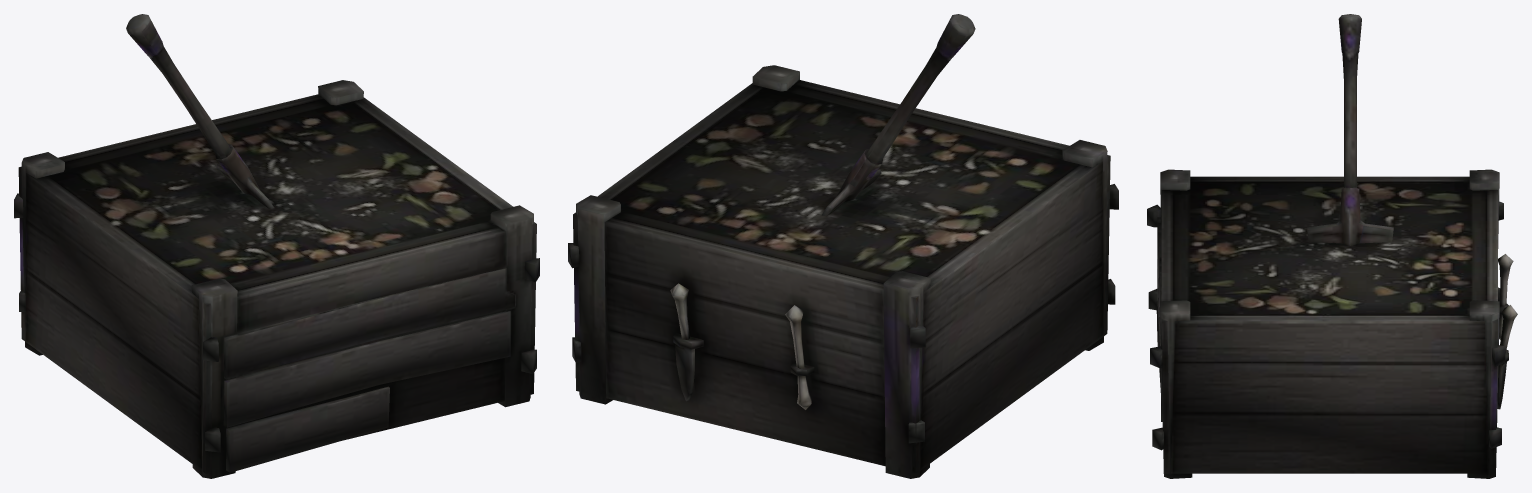
Rendered from prop_node_compost_heap.glb.
3 renders of one model, left to right at view 1: azimuth 30°, elevation 25°; view 2: azimuth 150°, elevation 25°; view 3: azimuth 270°, elevation 25°, orthographic. The views are drawn at different scales.
Parts seen in each view (by area): view 1: tripo_node_df61f8a4-6d72-46c8-99c8-26d8d418f082; view 2: tripo_node_df61f8a4-6d72-46c8-99c8-26d8d418f082; view 3: tripo_node_df61f8a4-6d72-46c8-99c8-26d8d418f082.
Boxes of the visible parts, x1,y1,x2,y2 form: tripo_node_df61f8a4-6d72-46c8-99c8-26d8d418f082: (14,14,539,478); tripo_node_df61f8a4-6d72-46c8-99c8-26d8d418f082: (568,14,1118,478); tripo_node_df61f8a4-6d72-46c8-99c8-26d8d418f082: (1147,14,1517,478).
Size of the model in its own units: 0.9511 by 0.998 by 0.9902.
1 material, 1 textured.
